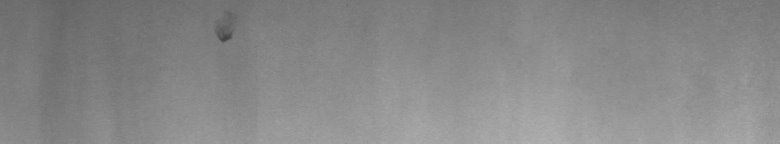fi: (212, 29, 236, 48)
